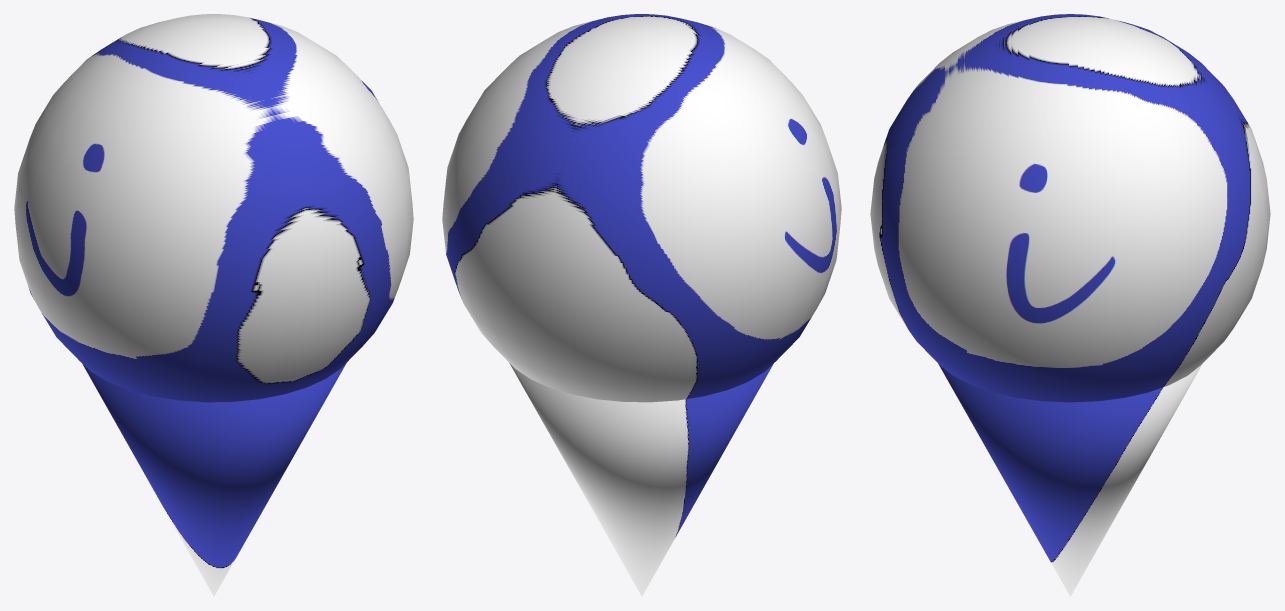
File: infopoint.glb
3 renders of one model, left to right at view 1: azimuth 30°, elevation 25°; view 2: azimuth 150°, elevation 25°; view 3: azimuth 270°, elevation 25°, orthographic.
Parts seen in each view (by area): view 1: Sphere; view 2: Sphere; view 3: Sphere.
Part boxes in pixels (box(x1,y1,x2,y2)): Sphere: box(14, 14, 413, 596); Sphere: box(442, 14, 841, 596); Sphere: box(870, 14, 1270, 596).
Size of the model in its own units: 2 by 3.11 by 2.
1 material, 1 textured.
